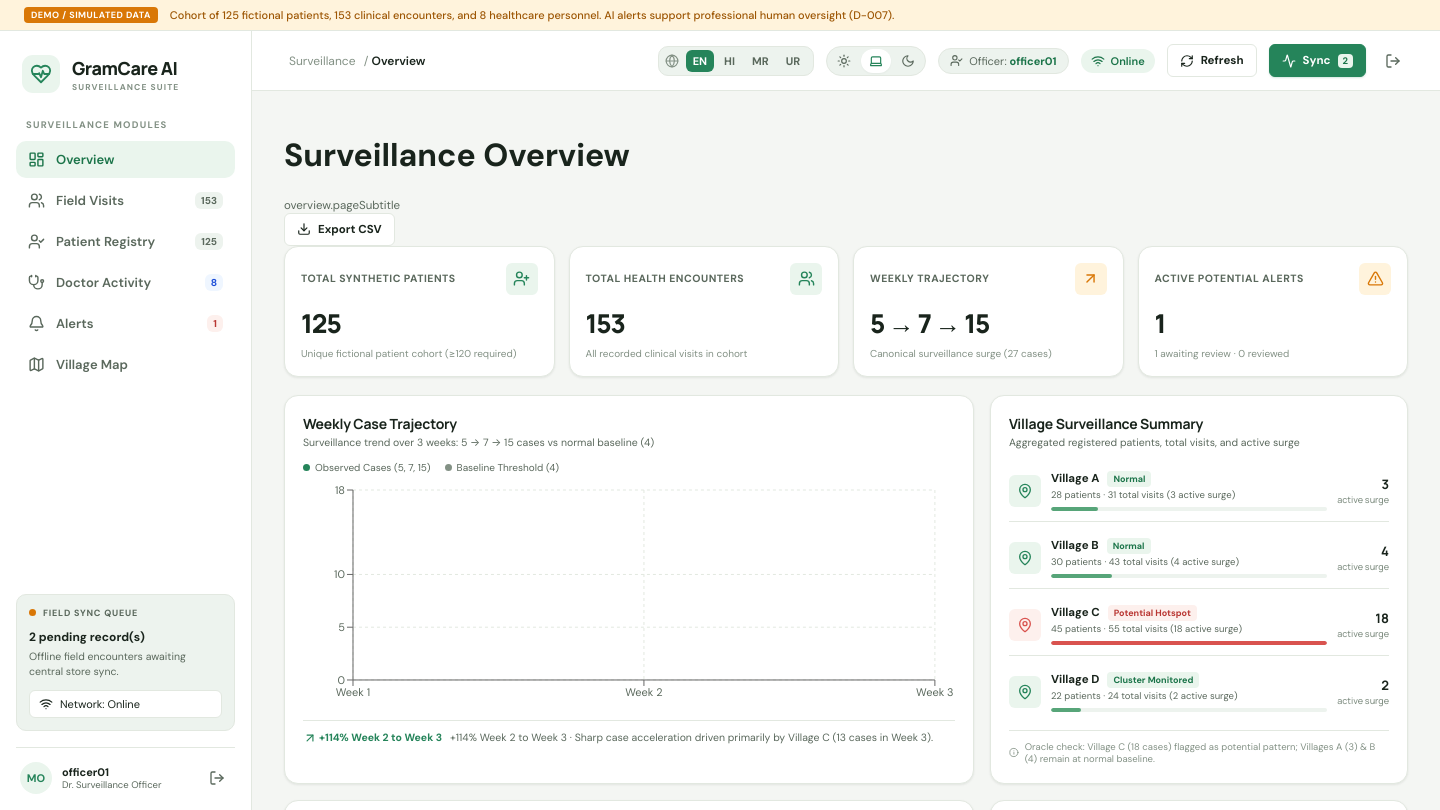
Test: GramCare AI Dashboard MVP — 100+ Synthetic Patients & Authentication Verification › Authentication & Protected Route Security › logs out and redirects back to protected login screen
This screenshot has width=1440, height=810.
# Click logout in sidebar
Click the button with test id "logout-button" at (217, 778), box x1=203 y1=764 x2=231 y2=792
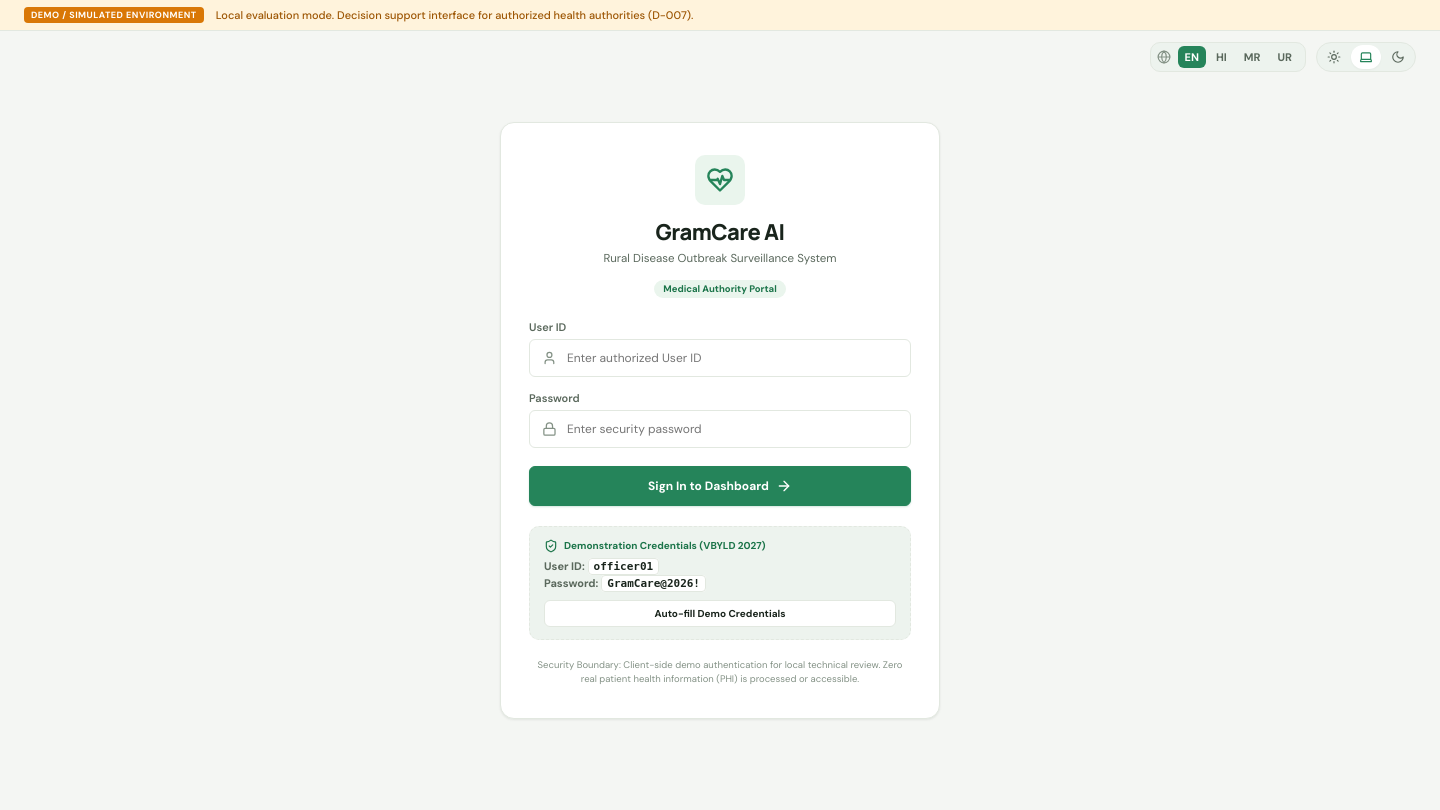
Expected: the element with test id "login-screen" is shown
